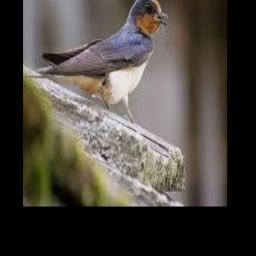Swallow: (37, 0, 169, 123)
